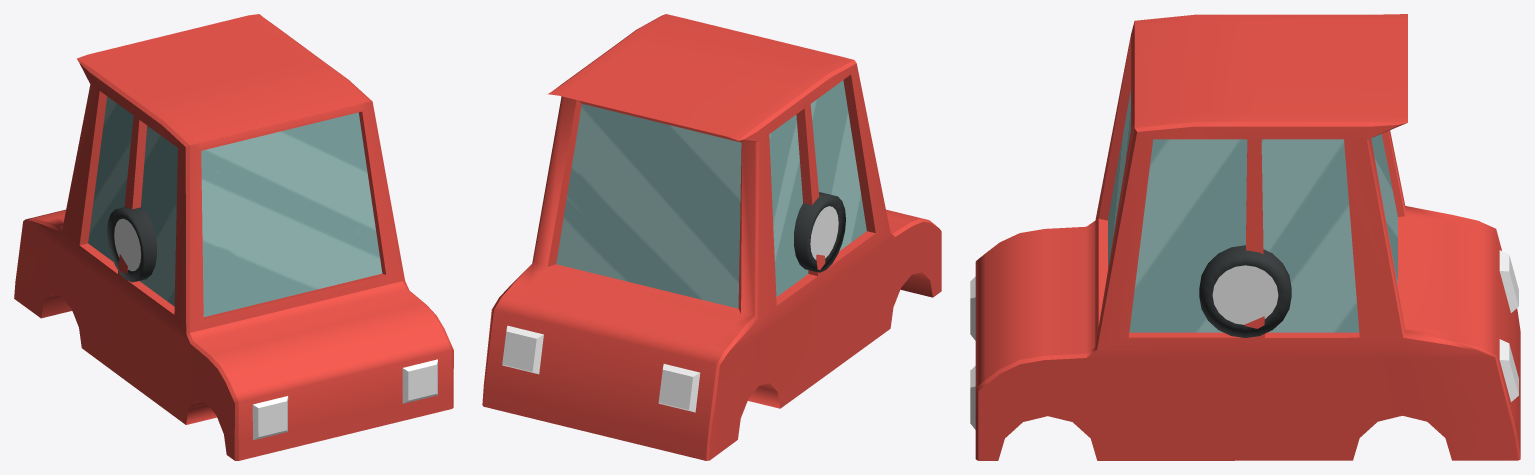
Rendered from car_5_R.fbx.
3 views of the same model, side by side, from view 1: azimuth 30°, elevation 25°; view 2: azimuth 150°, elevation 25°; view 3: azimuth 270°, elevation 25° (orthographic). The views are drawn at different scales.
Parts seen in each view (by area): view 1: car_5_chasis_R, car_5_back_wheel_R, car_5_right_wheel_R; view 2: car_5_chasis_R, car_5_back_wheel_R, car_5_right_wheel_R; view 3: car_5_chasis_R, car_5_left_wheel_R.
Part boxes in pixels (box(x1,y1,x2,y2)): car_5_chasis_R: box(14, 14, 453, 460); car_5_back_wheel_R: box(107, 207, 150, 282); car_5_right_wheel_R: box(122, 209, 156, 280); car_5_chasis_R: box(482, 14, 941, 460); car_5_back_wheel_R: box(794, 195, 845, 272); car_5_right_wheel_R: box(794, 192, 833, 268); car_5_chasis_R: box(970, 14, 1520, 460); car_5_left_wheel_R: box(1199, 245, 1291, 337).
Size of the model in its own units: 103 by 121 by 183.
